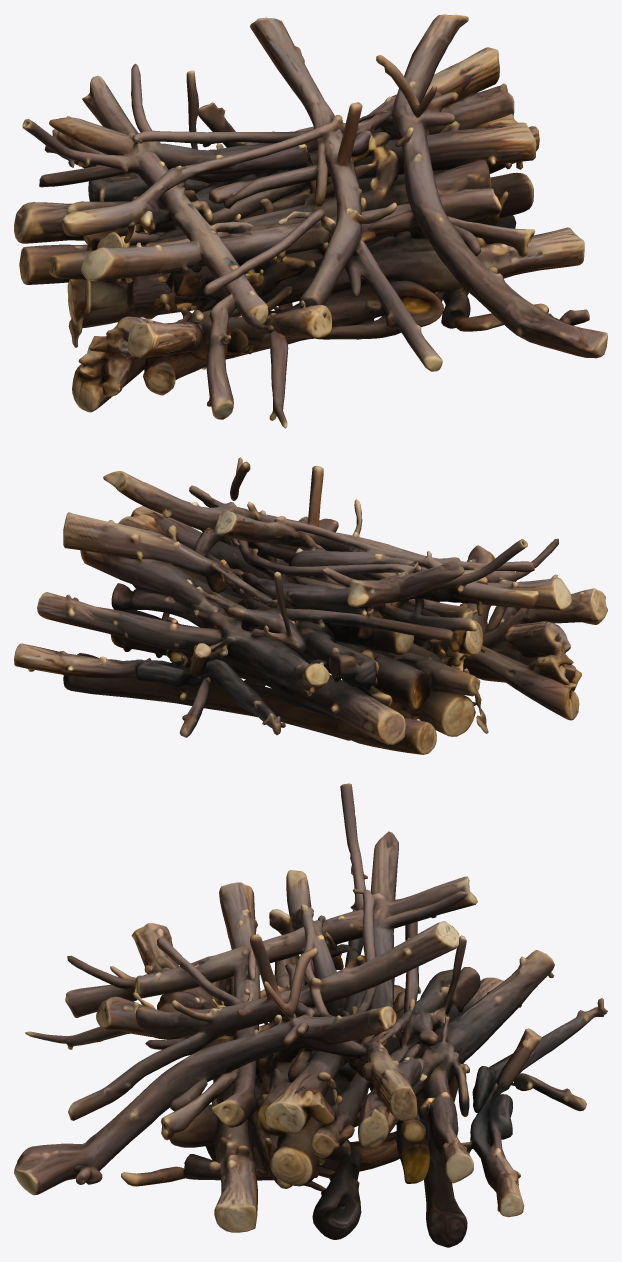
Rendered from nature-branch-dead.glb.
3 renders of one model, top to bottom at view 1: azimuth 30°, elevation 25°; view 2: azimuth 150°, elevation 25°; view 3: azimuth 270°, elevation 25°, orthographic. The views are drawn at different scales.
Visible parts, largest first — view 1: tripo_node_d87731d8-1030-4d63-9c54-afb1791450e1; view 2: tripo_node_d87731d8-1030-4d63-9c54-afb1791450e1; view 3: tripo_node_d87731d8-1030-4d63-9c54-afb1791450e1.
Boxes of the visible parts, x1=… form: tripo_node_d87731d8-1030-4d63-9c54-afb1791450e1: x1=14, y1=14, x2=607, y2=428; tripo_node_d87731d8-1030-4d63-9c54-afb1791450e1: x1=14, y1=457, x2=607, y2=754; tripo_node_d87731d8-1030-4d63-9c54-afb1791450e1: x1=14, y1=783, x2=607, y2=1247.
Size of the model in its own units: 1.63 by 0.8001 by 1.71.
Materials: 1 (1 with a texture image).
